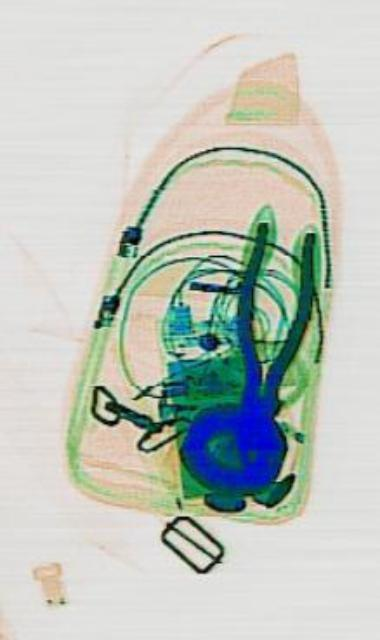Pliers: (209, 206, 322, 466)
